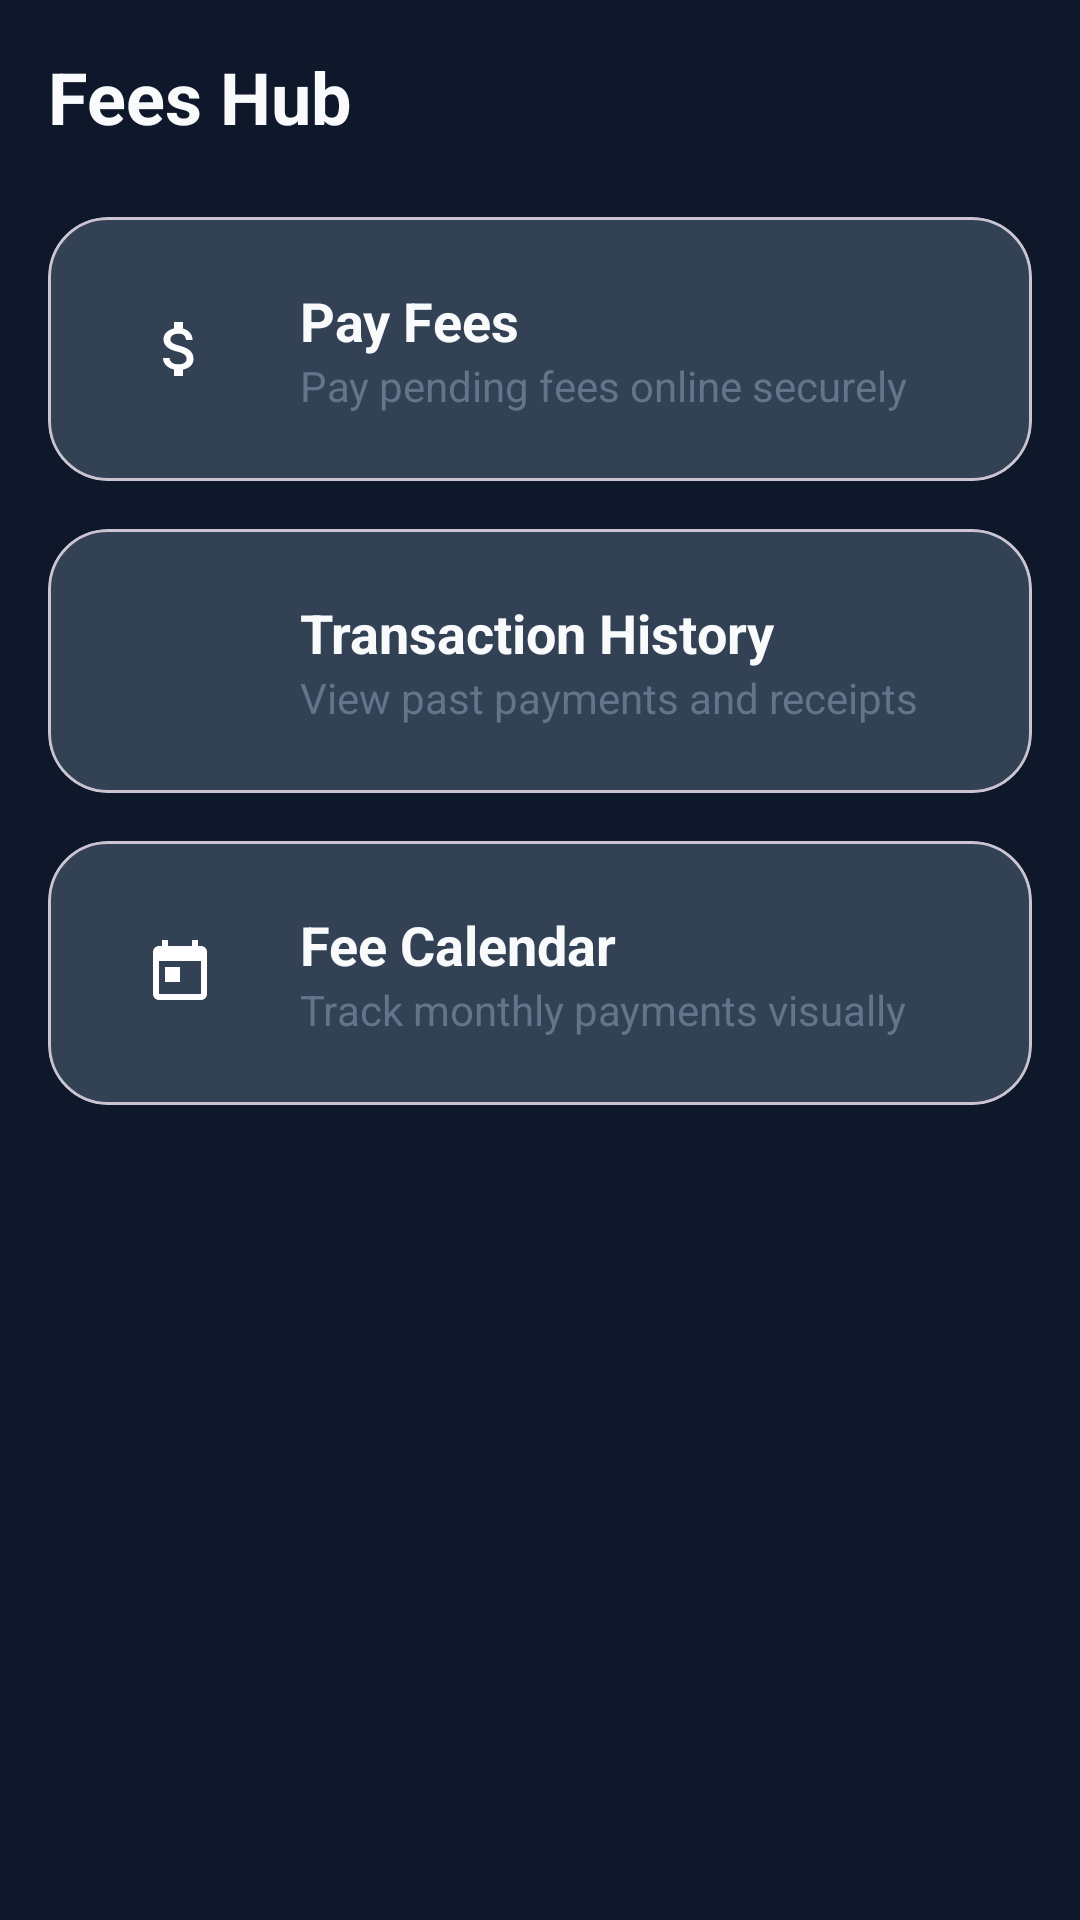

Named icons in this screenshot (1080x1920) and their centers, (x=x, y=y):
payment: (x=178, y=349)
